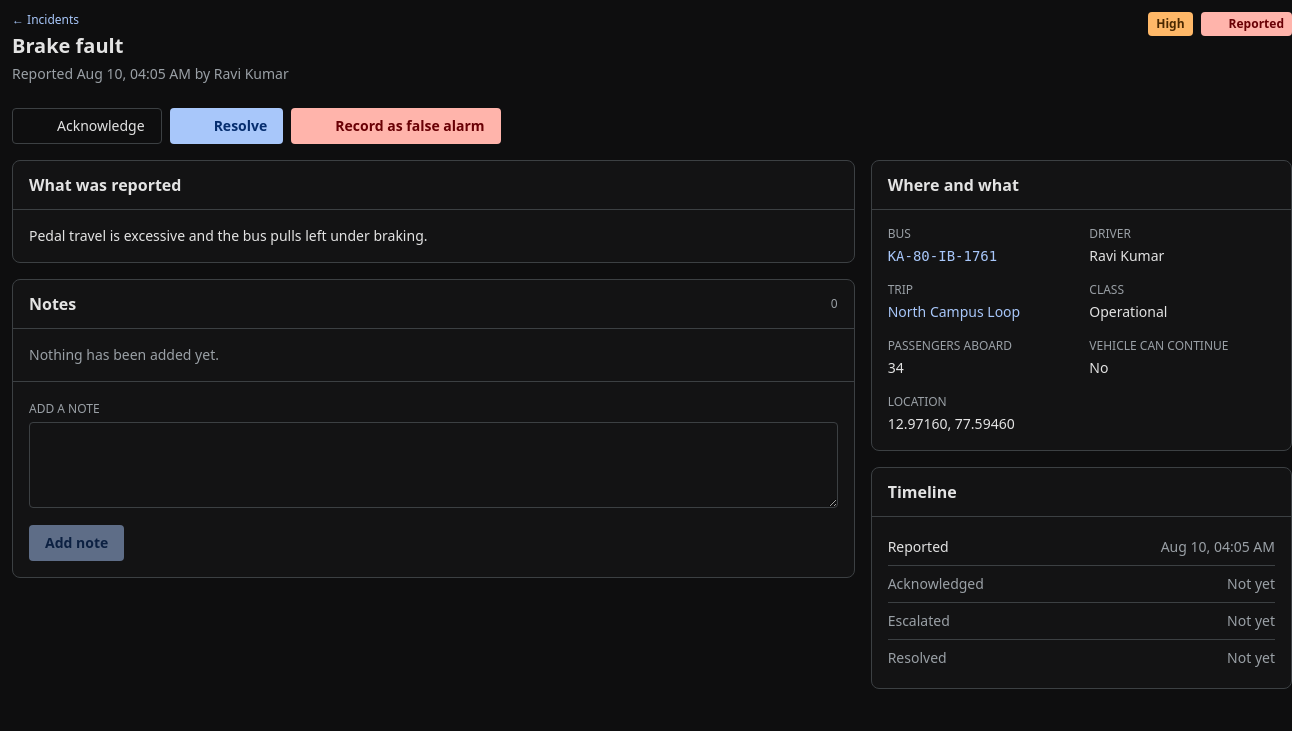
when the server refuses › shows a 409 in the server’s own words and does not retry it
Expected: the heading "Brake fault" is shown, [12,32,123,59]
What coordinates should you click on to do the following:
click the button "Acknowledge"
I would click on:
 (87, 126)
Its box is [12,108,162,144].
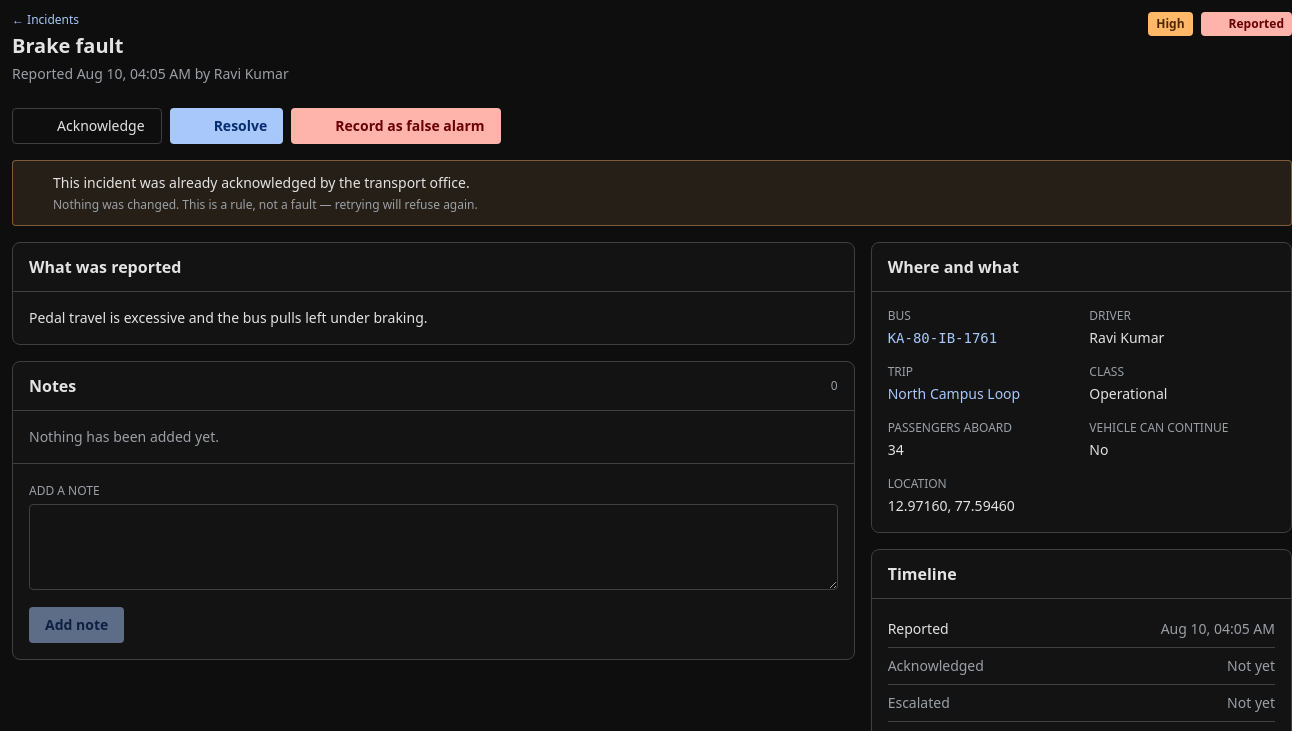
Expected: the text "This incident was already acknowledged by the transport office." is shown, [53,173,470,192]
Expected: the text "Nothing was changed" is shown, [53,196,478,213]
